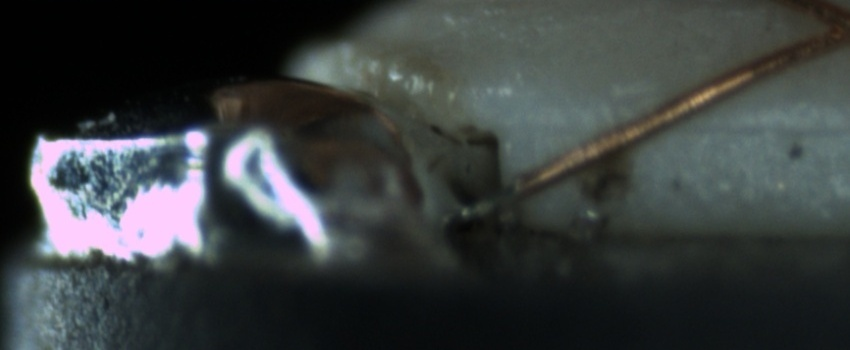CL: (792, 4, 850, 56)
DL: (539, 90, 850, 159)
TS: (446, 174, 518, 223)
TTCW: (453, 171, 530, 221)
